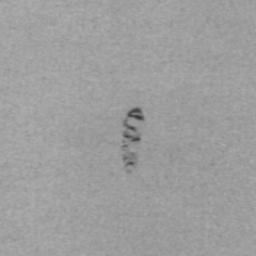Secondary rust skin: (122, 107, 144, 172)
